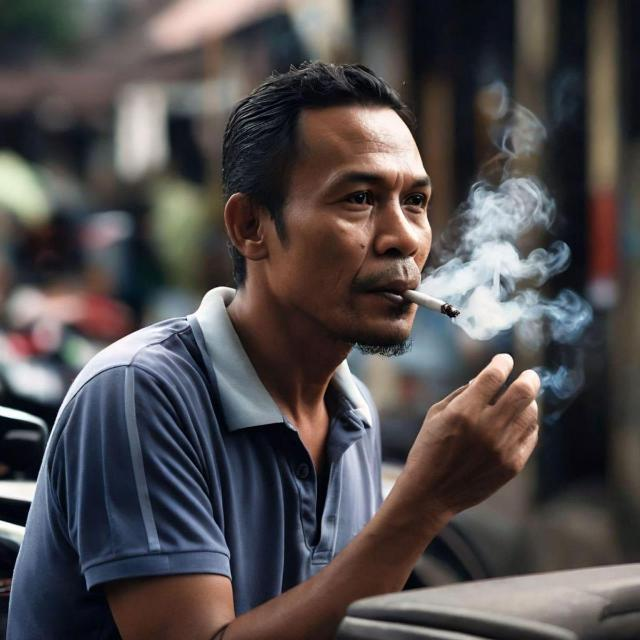rokok: (406, 283, 464, 319)
